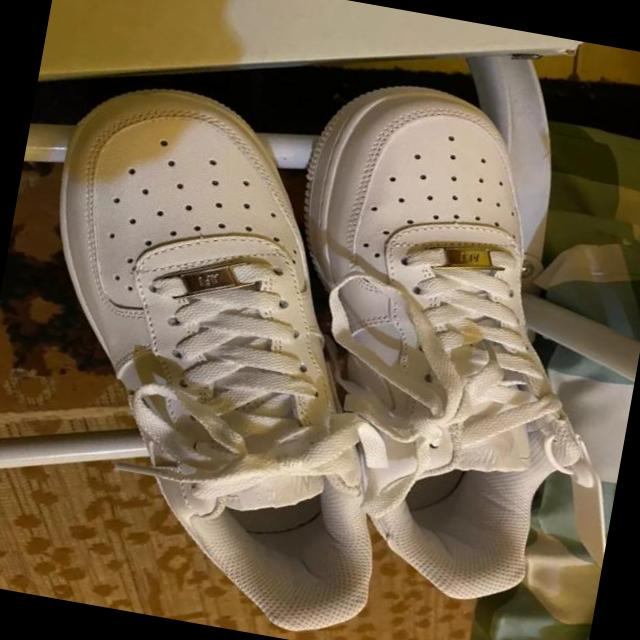nike_original_airforce: (0, 63, 465, 640), (230, 63, 640, 616)
